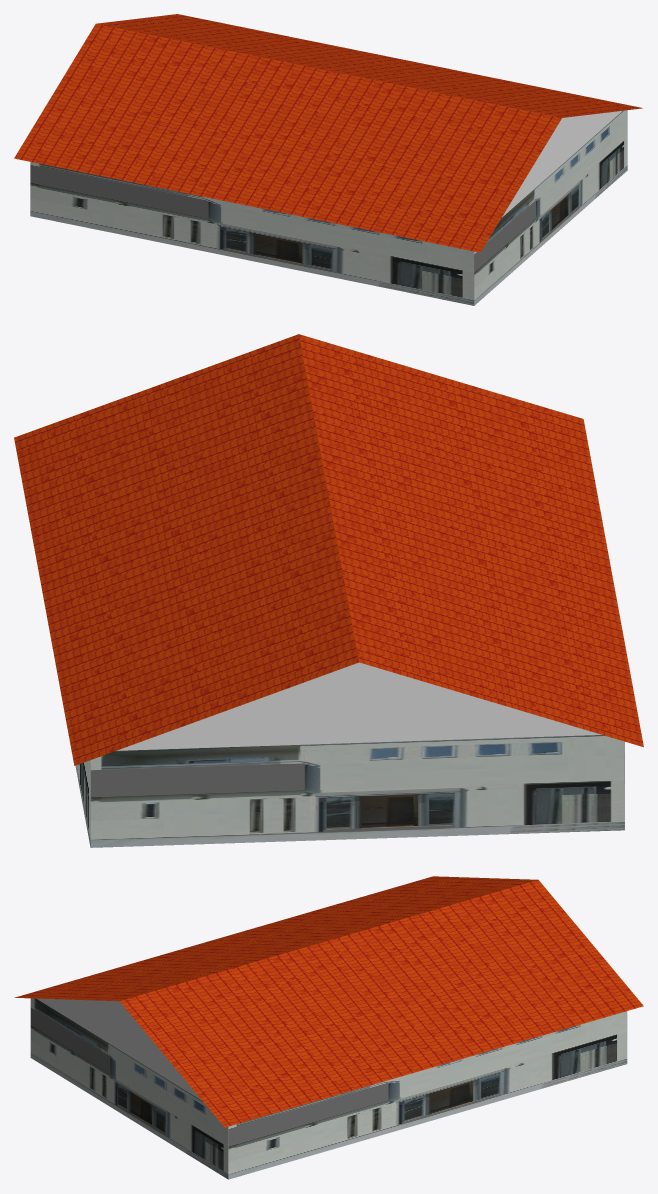
3 views of the same model, one above another, from view 1: azimuth 30°, elevation 25°; view 2: azimuth 150°, elevation 25°; view 3: azimuth 270°, elevation 25° (orthographic). The views are drawn at different scales.
Visible parts, largest first — view 1: CityEngineMaterial_12_m, CityEngineMaterial_11_m, CityEngineMaterial_3_m; view 2: CityEngineMaterial_12_m, CityEngineMaterial_11_m, CityEngineMaterial_3_m; view 3: CityEngineMaterial_12_m, CityEngineMaterial_11_m, CityEngineMaterial_3_m.
Part boxes in pixels (x1=…): CityEngineMaterial_12_m: x1=14, y1=14, x2=642, y2=252; CityEngineMaterial_11_m: x1=30, y1=110, x2=627, y2=305; CityEngineMaterial_3_m: x1=502, y1=111, x2=622, y2=217; CityEngineMaterial_12_m: x1=14, y1=334, x2=643, y2=765; CityEngineMaterial_11_m: x1=75, y1=735, x2=624, y2=847; CityEngineMaterial_3_m: x1=116, y1=662, x2=601, y2=750; CityEngineMaterial_12_m: x1=14, y1=876, x2=643, y2=1127; CityEngineMaterial_11_m: x1=30, y1=998, x2=627, y2=1179; CityEngineMaterial_3_m: x1=37, y1=998, x2=201, y2=1100.
Bounding box in the file's own units: 48.5 × 10.83 × 51.36.
